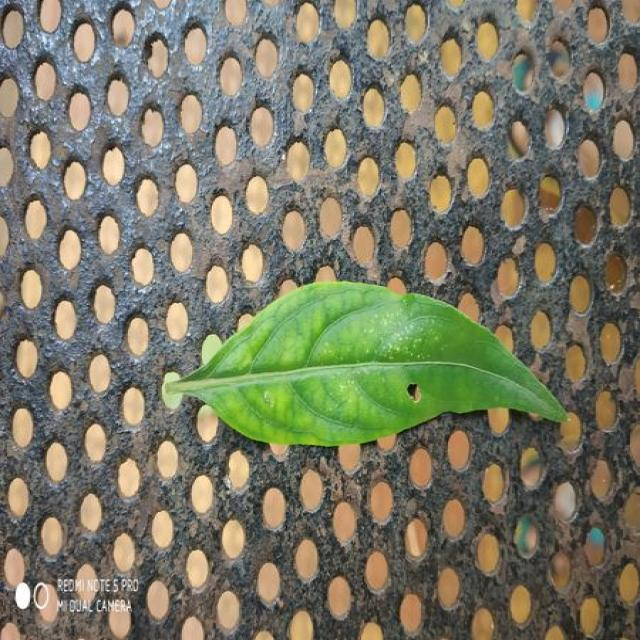Nelavembu: (162, 282, 567, 446)
